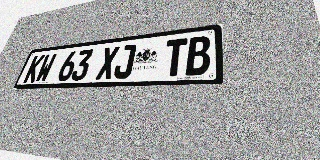3: (70, 49, 94, 81)
6: (56, 51, 80, 81)
B: (185, 35, 211, 76)
J: (112, 44, 137, 79)
K: (23, 55, 45, 83)
T: (162, 38, 188, 77)
W: (34, 53, 57, 82)
X: (95, 46, 120, 80)
